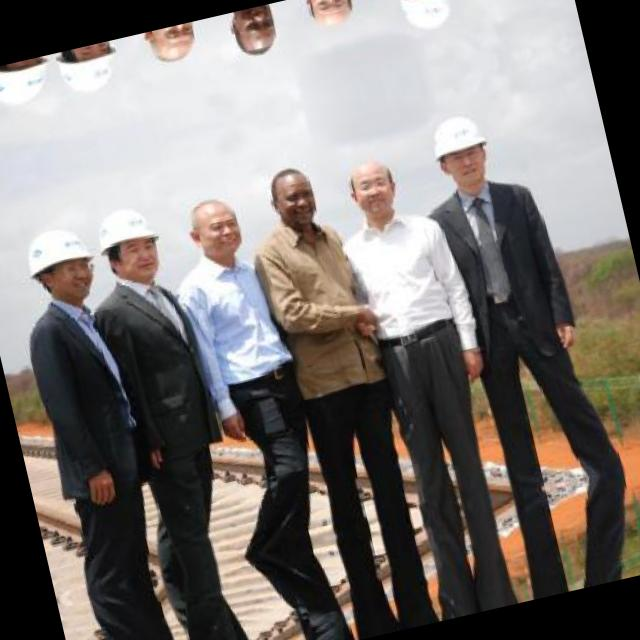helmet: (17, 218, 108, 314), (87, 196, 170, 288), (422, 108, 492, 194), (50, 38, 128, 100), (0, 53, 62, 111), (387, 0, 455, 36)
